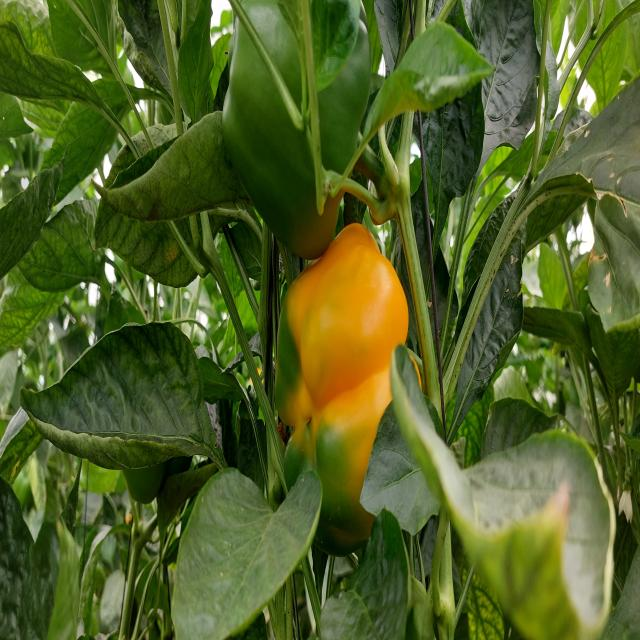GreenishYellow--Can-be-Harvested: (260, 221, 430, 564)
